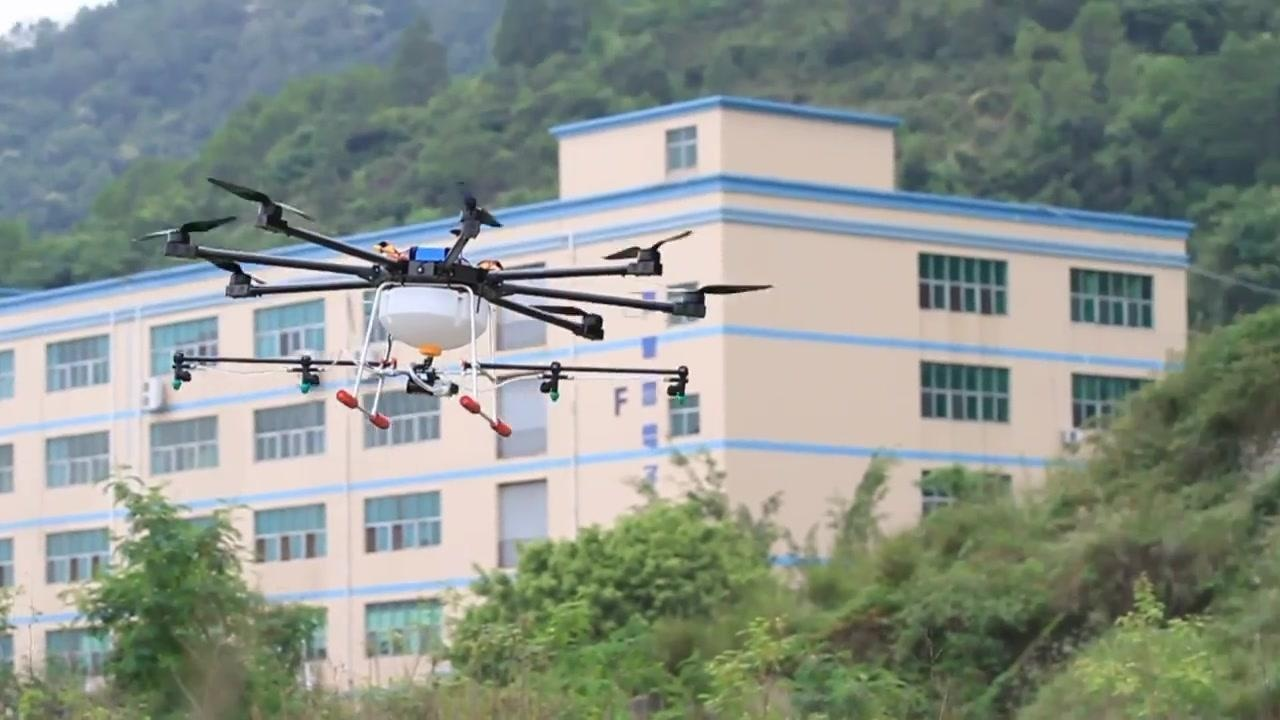UAV: (140, 179, 773, 438)
